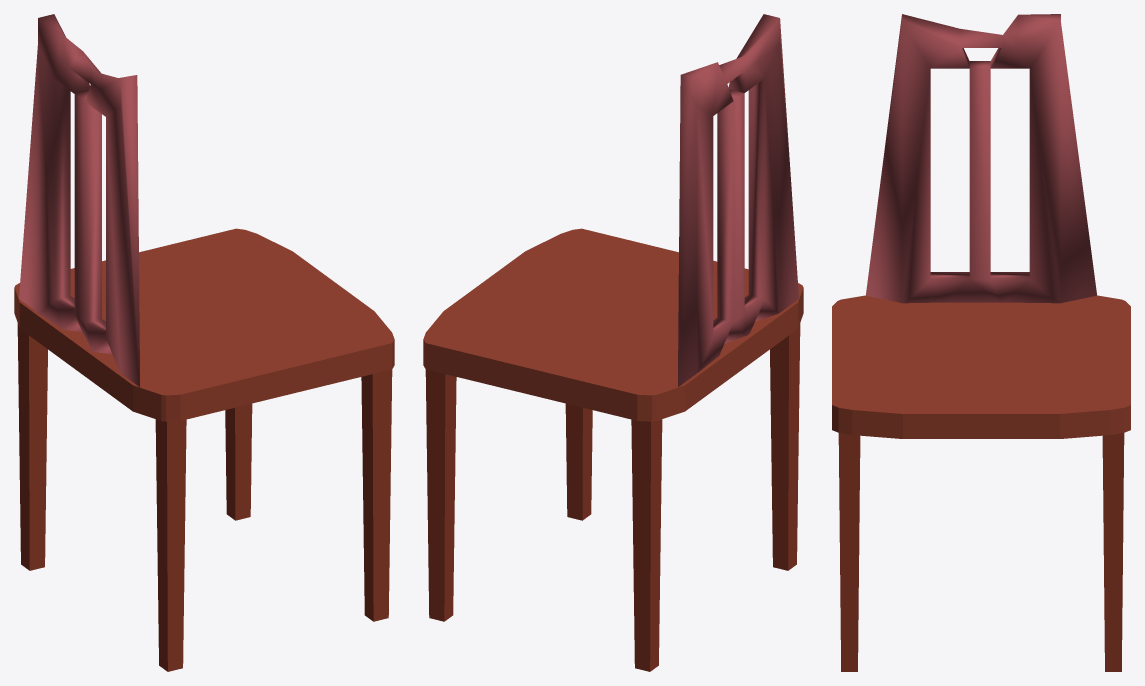
The model's file is DiningChair.glb.
3 renders of one model, left to right at view 1: azimuth 30°, elevation 25°; view 2: azimuth 150°, elevation 25°; view 3: azimuth 270°, elevation 25°, orthographic. The views are drawn at different scales.
Parts seen in each view (by area): view 1: Chair; view 2: Chair; view 3: Chair.
Part boxes in pixels (<box>): Chair: <box>14,14,394,671</box>; Chair: <box>423,14,803,671</box>; Chair: <box>832,14,1130,671</box>.
Bounding box in the file's own units: 1.61 × 3.44 × 1.7.
